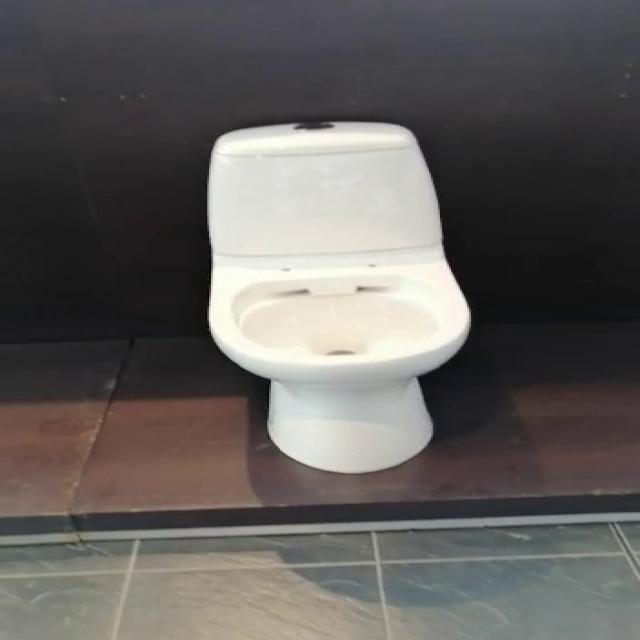toilet: (204, 120, 471, 474)
